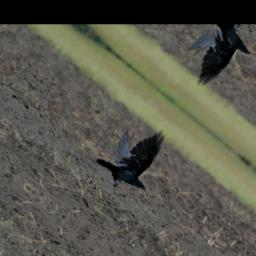Crow: (88, 106, 184, 207)
